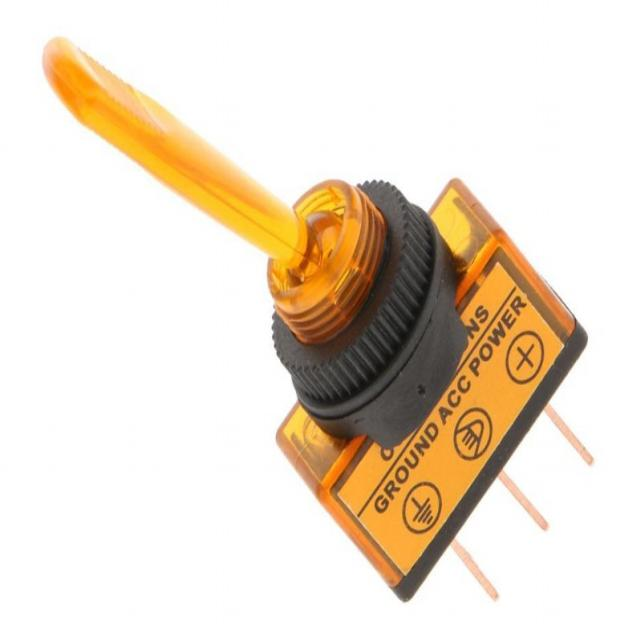toggle switch: (40, 33, 440, 416)
